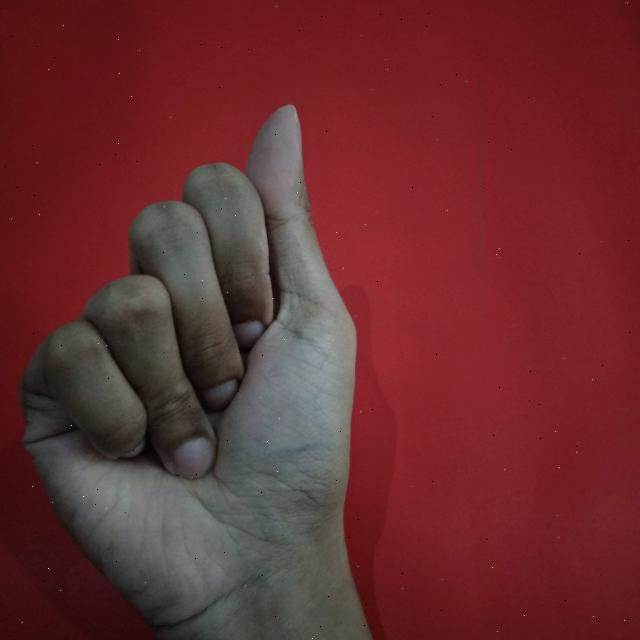A: (16, 84, 371, 640)
